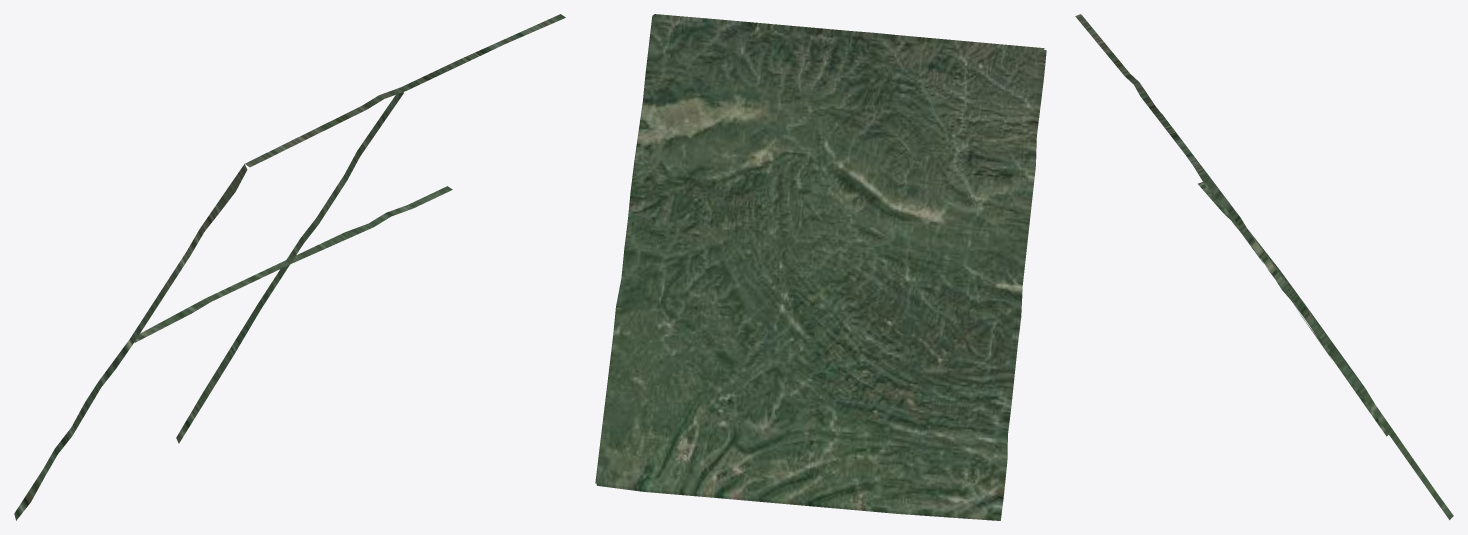
The picture shows the model from 3 angles, left to right: view 1: azimuth 30°, elevation 25°; view 2: azimuth 150°, elevation 25°; view 3: azimuth 270°, elevation 25°; orthographic projection. The views are drawn at different scales.
Bounding box in the file's own units: 307939 × 270027 × 244798.
Materials: 1 (1 with a texture image).
